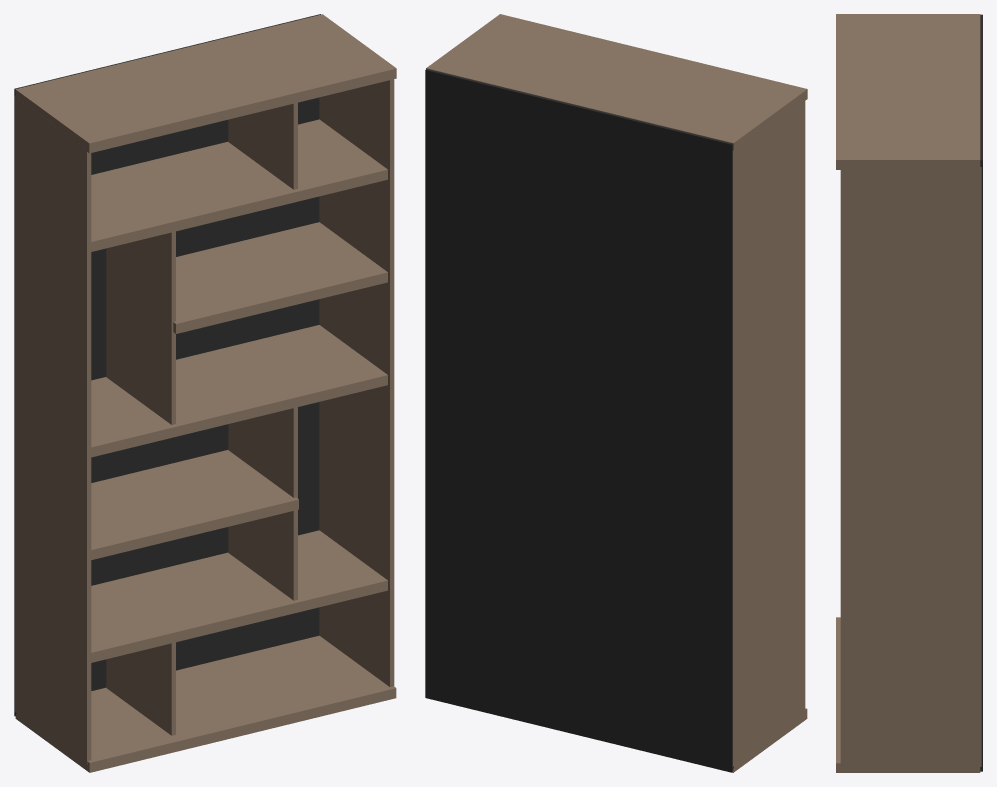
The model's file is rack017.glb.
3 renders of one model, left to right at view 1: azimuth 30°, elevation 25°; view 2: azimuth 150°, elevation 25°; view 3: azimuth 270°, elevation 25°, orthographic. The views are drawn at different scales.
Visible parts, largest first — view 1: racks.017; view 2: racks.017; view 3: racks.017.
Boxes of the visible parts, x1,y1,x2,y2 form: racks.017: (14,14,396,772); racks.017: (425,14,807,772); racks.017: (836,14,982,772).
Bounding box in the file's own units: 1.1 × 2.15 × 0.466.
1 material, 1 textured.
